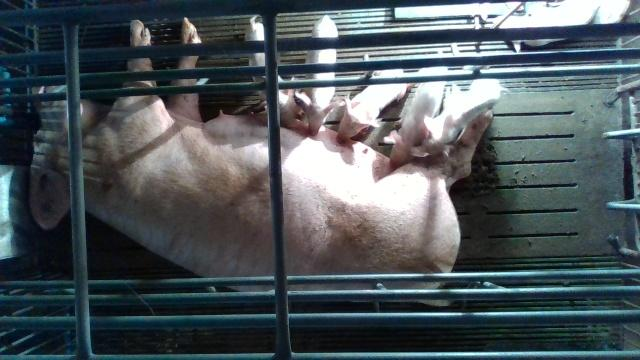piglet: (382, 65, 448, 172), (244, 16, 296, 127), (423, 79, 511, 144), (496, 0, 601, 54), (295, 15, 341, 137), (335, 68, 407, 145)
sow-sleep-lactate: (29, 17, 493, 307)
